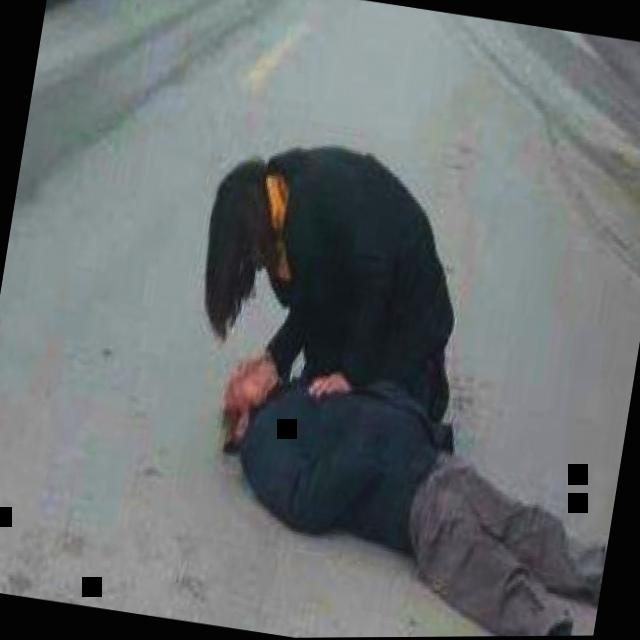Fall-Detected: (169, 317, 633, 639)
